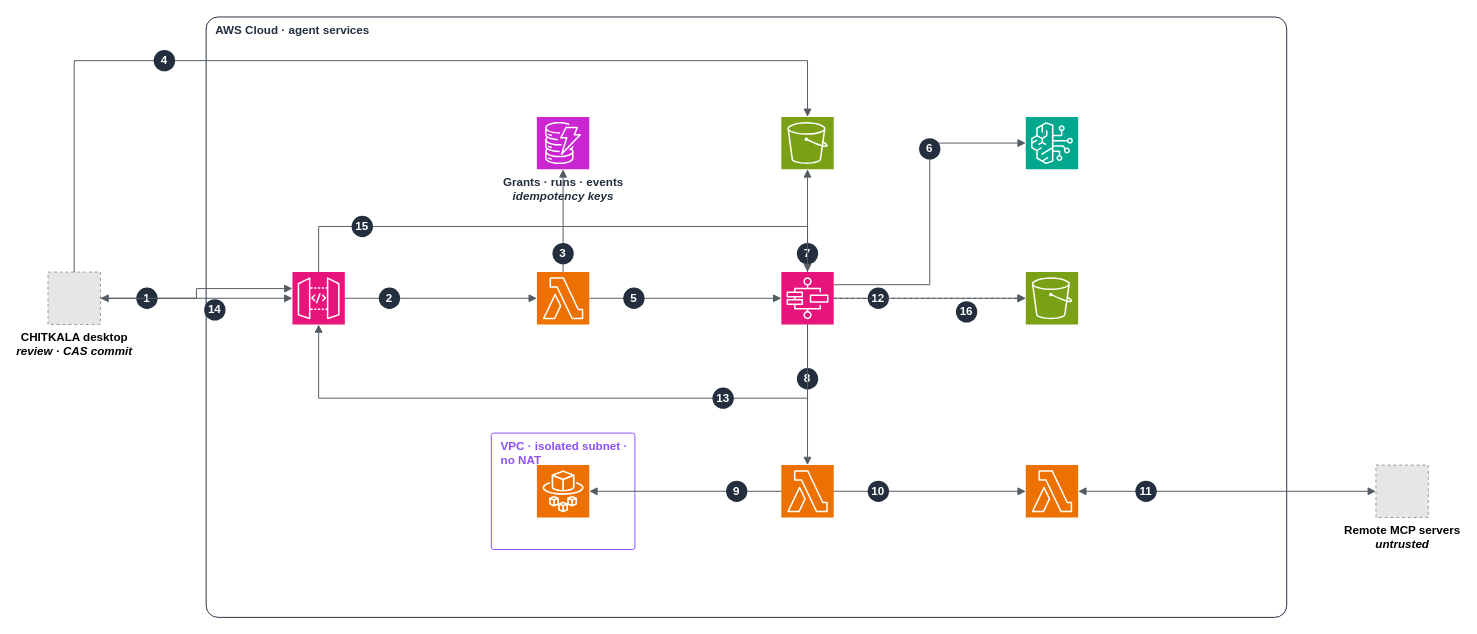
Some shapes in this 1477 by 634 pixel diagram are drawn without their labels. Grey dashed boxes stand in for pictures. Here are the shapes that lost their labels. From the top down, the centre of each, then its label:
At pixel 807 142: "Run context pack in-scope docs · TTL".
At pixel 1051 142: "Amazon Bedrock planner · writer".
At pixel 318 297: "API Gateway HTTP + WebSocket".
At pixel 562 297: "Run starter manifest · grants".
At pixel 807 297: "Step Functions run state machine".
At pixel 1051 297: "Proposals · audit Object Lock".
At pixel 562 490: "Tool sandbox read-only FS · caps".
At pixel 807 490: "Policy broker every tool call".
At pixel 1051 490: "MCP adapter destination allowlist".
